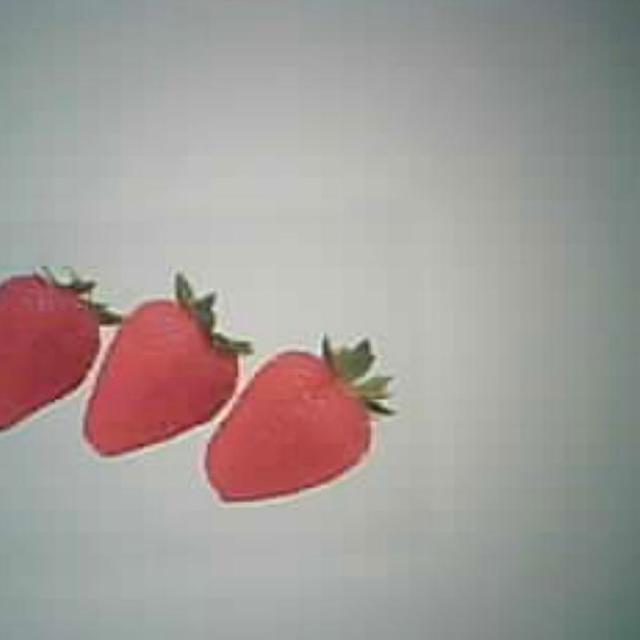Healthy Fruit: (203, 332, 395, 504), (81, 270, 252, 457), (0, 264, 105, 431)
